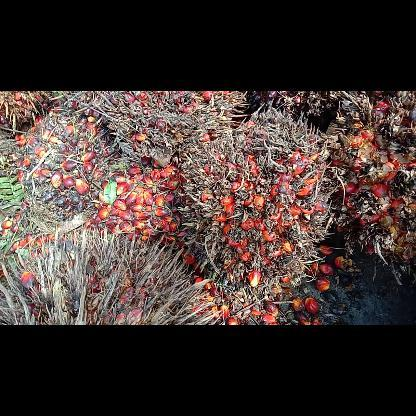Terlalu masak: (181, 106, 339, 308), (325, 91, 415, 281), (64, 91, 248, 171)
